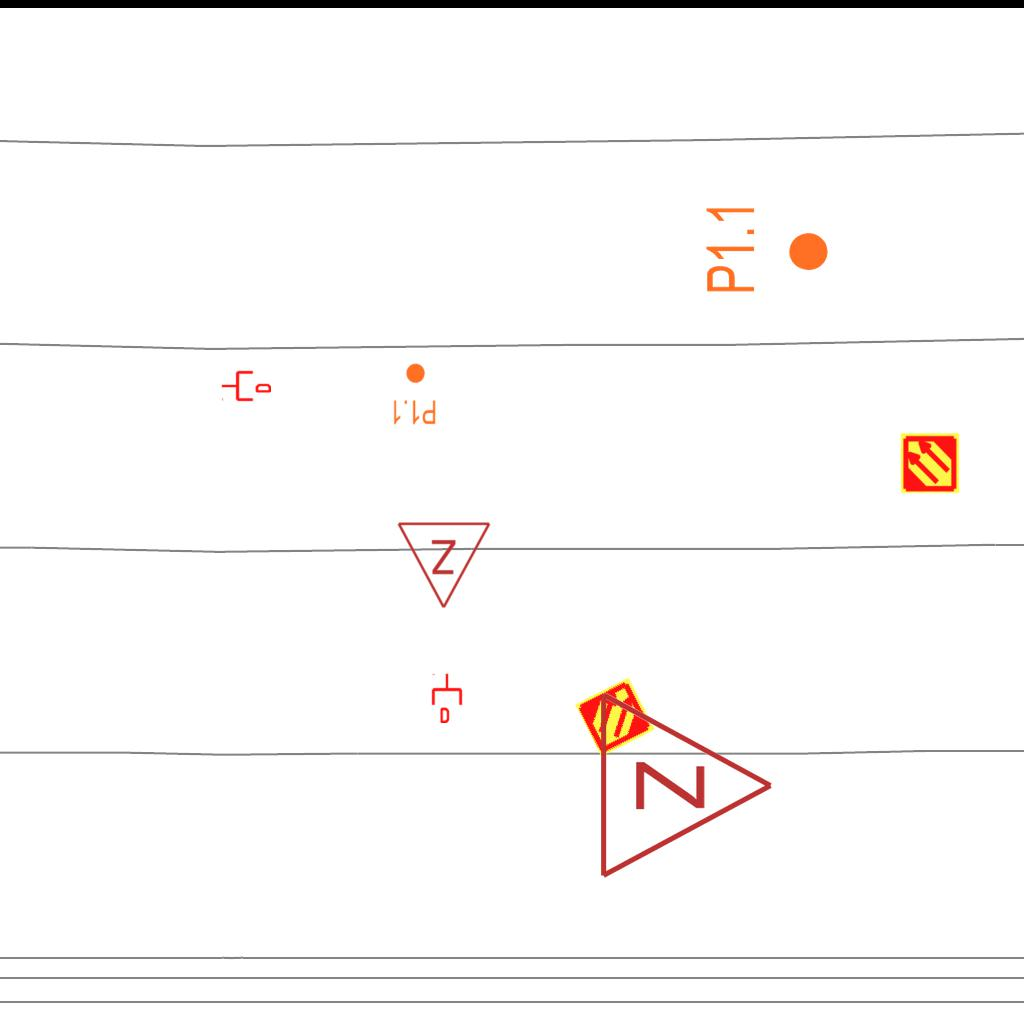ASR_Ansaugrauchmelder: (573, 675, 657, 759), (899, 432, 961, 494)
Datenanschluss_einfach: (430, 673, 464, 723), (221, 369, 271, 403)
Downlight_LED_Einbauleuchten_Flur: (703, 202, 831, 295), (391, 362, 437, 426)
Zimmersignalleuchte: (586, 685, 786, 881), (396, 515, 494, 615)
